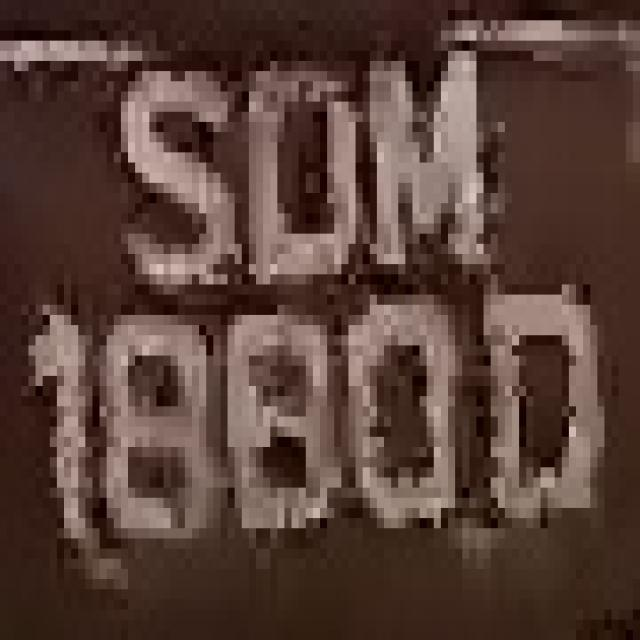0: (348, 294, 462, 548)
1: (21, 284, 107, 569)
8: (85, 305, 235, 579), (220, 264, 342, 559)
D: (469, 264, 612, 539), (228, 51, 362, 305)
M: (356, 31, 490, 294)
S: (100, 51, 242, 305)
